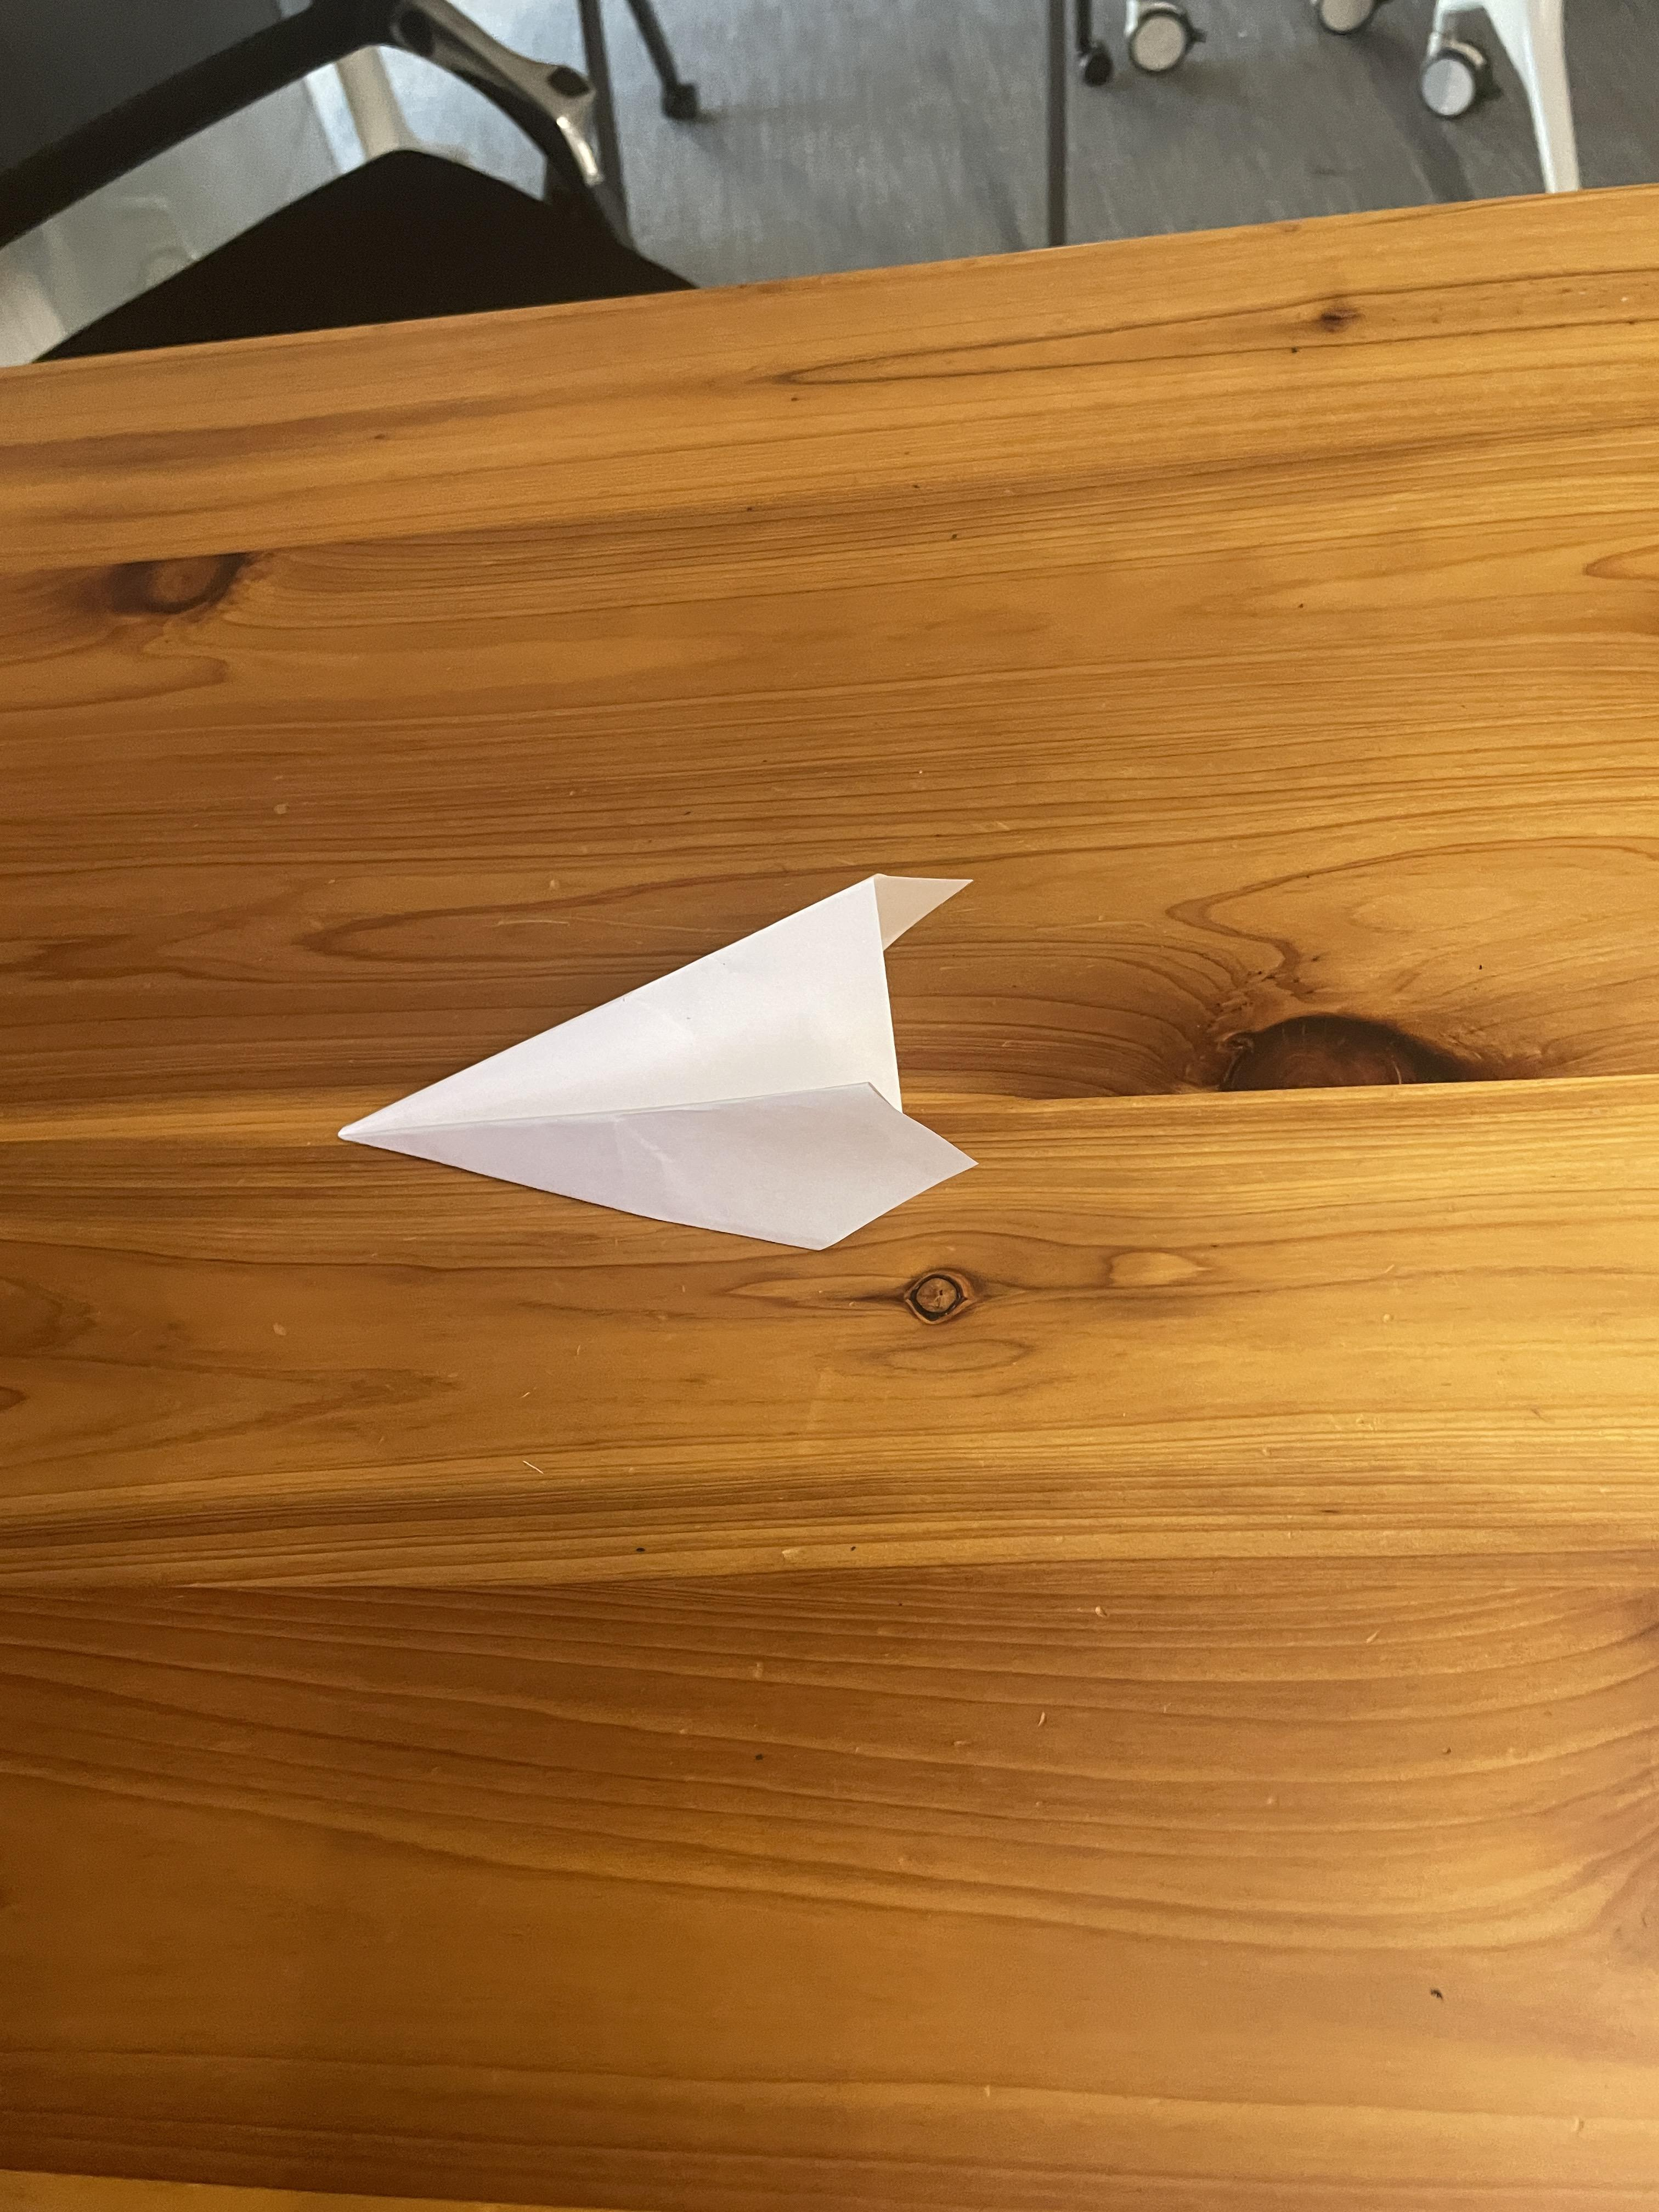shape_3: (258, 737, 1110, 1331)
